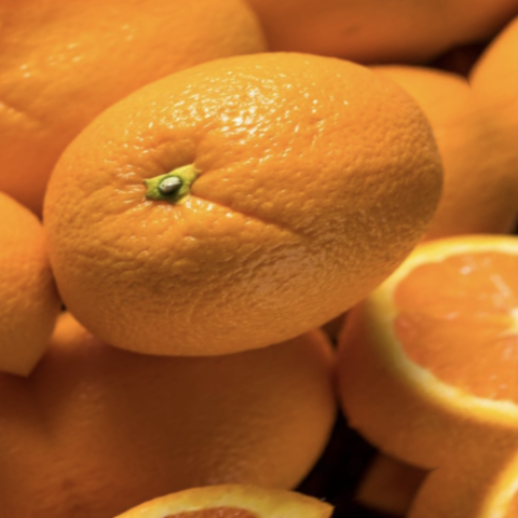orange: (0, 0, 516, 429)
